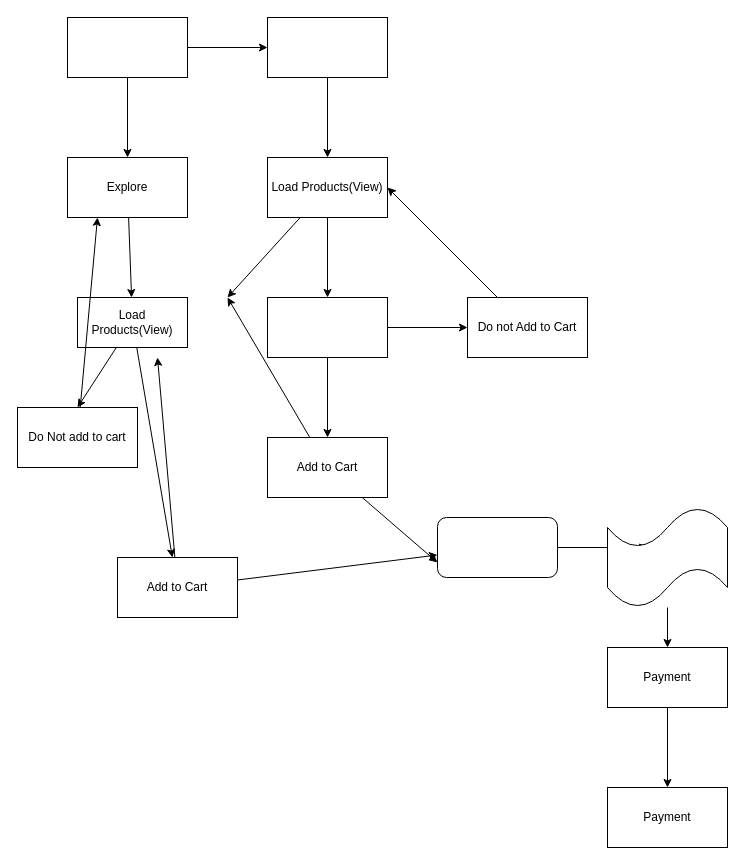
This 745x865 diagram has some shape labels left out. Here are the shapes that lost their labels. From the top down, the centre of each, then its label:
At pixel 127 47: "Home Page".
At pixel 327 47: "Search For Product(Input)".
At pixel 327 327: "View Specific Product".
At pixel 497 547: "Checkout".
At pixel 667 557: "View Cart".
